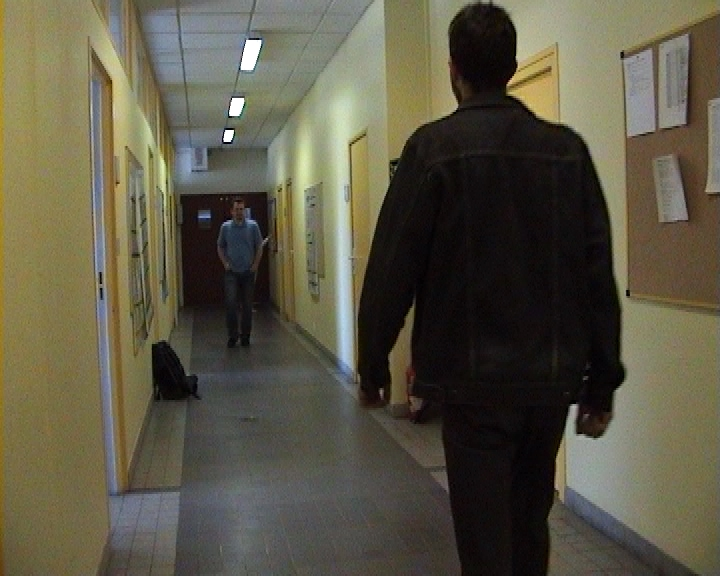leave bag unattended: (138, 322, 214, 422)
